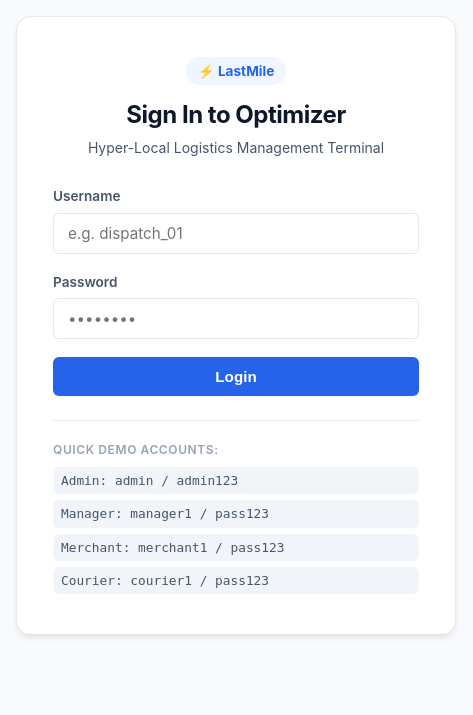
Frontend Tests (LastMile Logistics Optimizer) › T30 - Login: displays error message when account is revoked
In the field with placeholder "e.g. dispatch_01": (236, 233) [53,213,419,254], type "revokedUser"
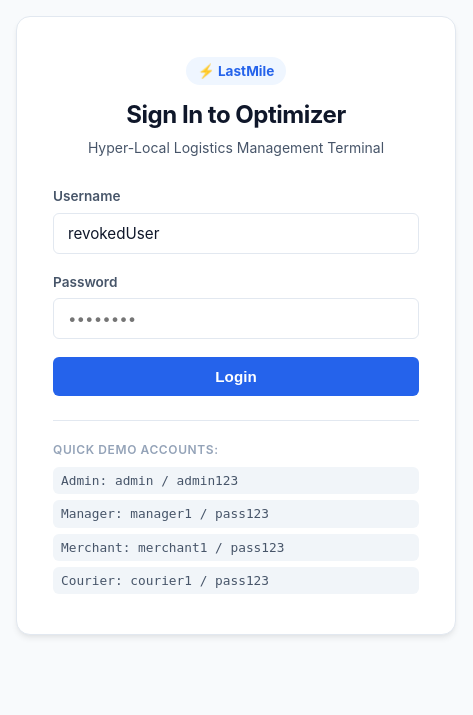
In the password field with placeholder "••••••••": (236, 319) [53,298,419,339], type "password"
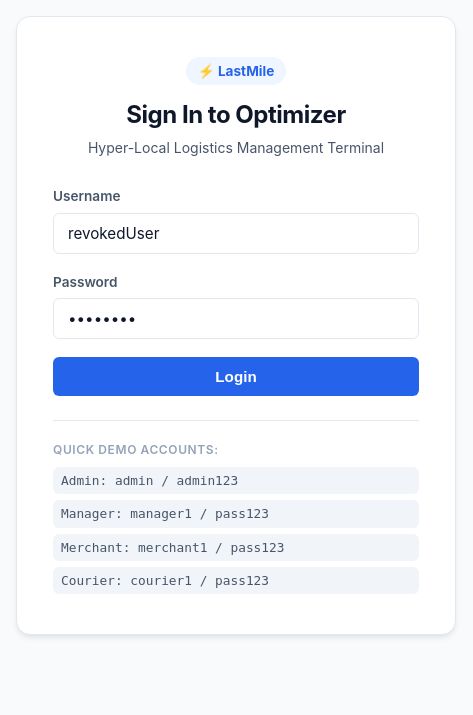
Click the button "Login": (236, 377) [53,357,419,396]
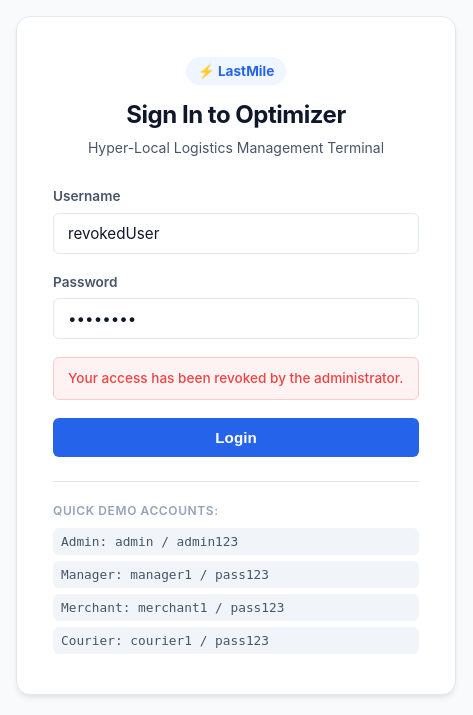
Check: the text "Your access has been revoked by the administrator." is shown, box [53,357,419,400]
